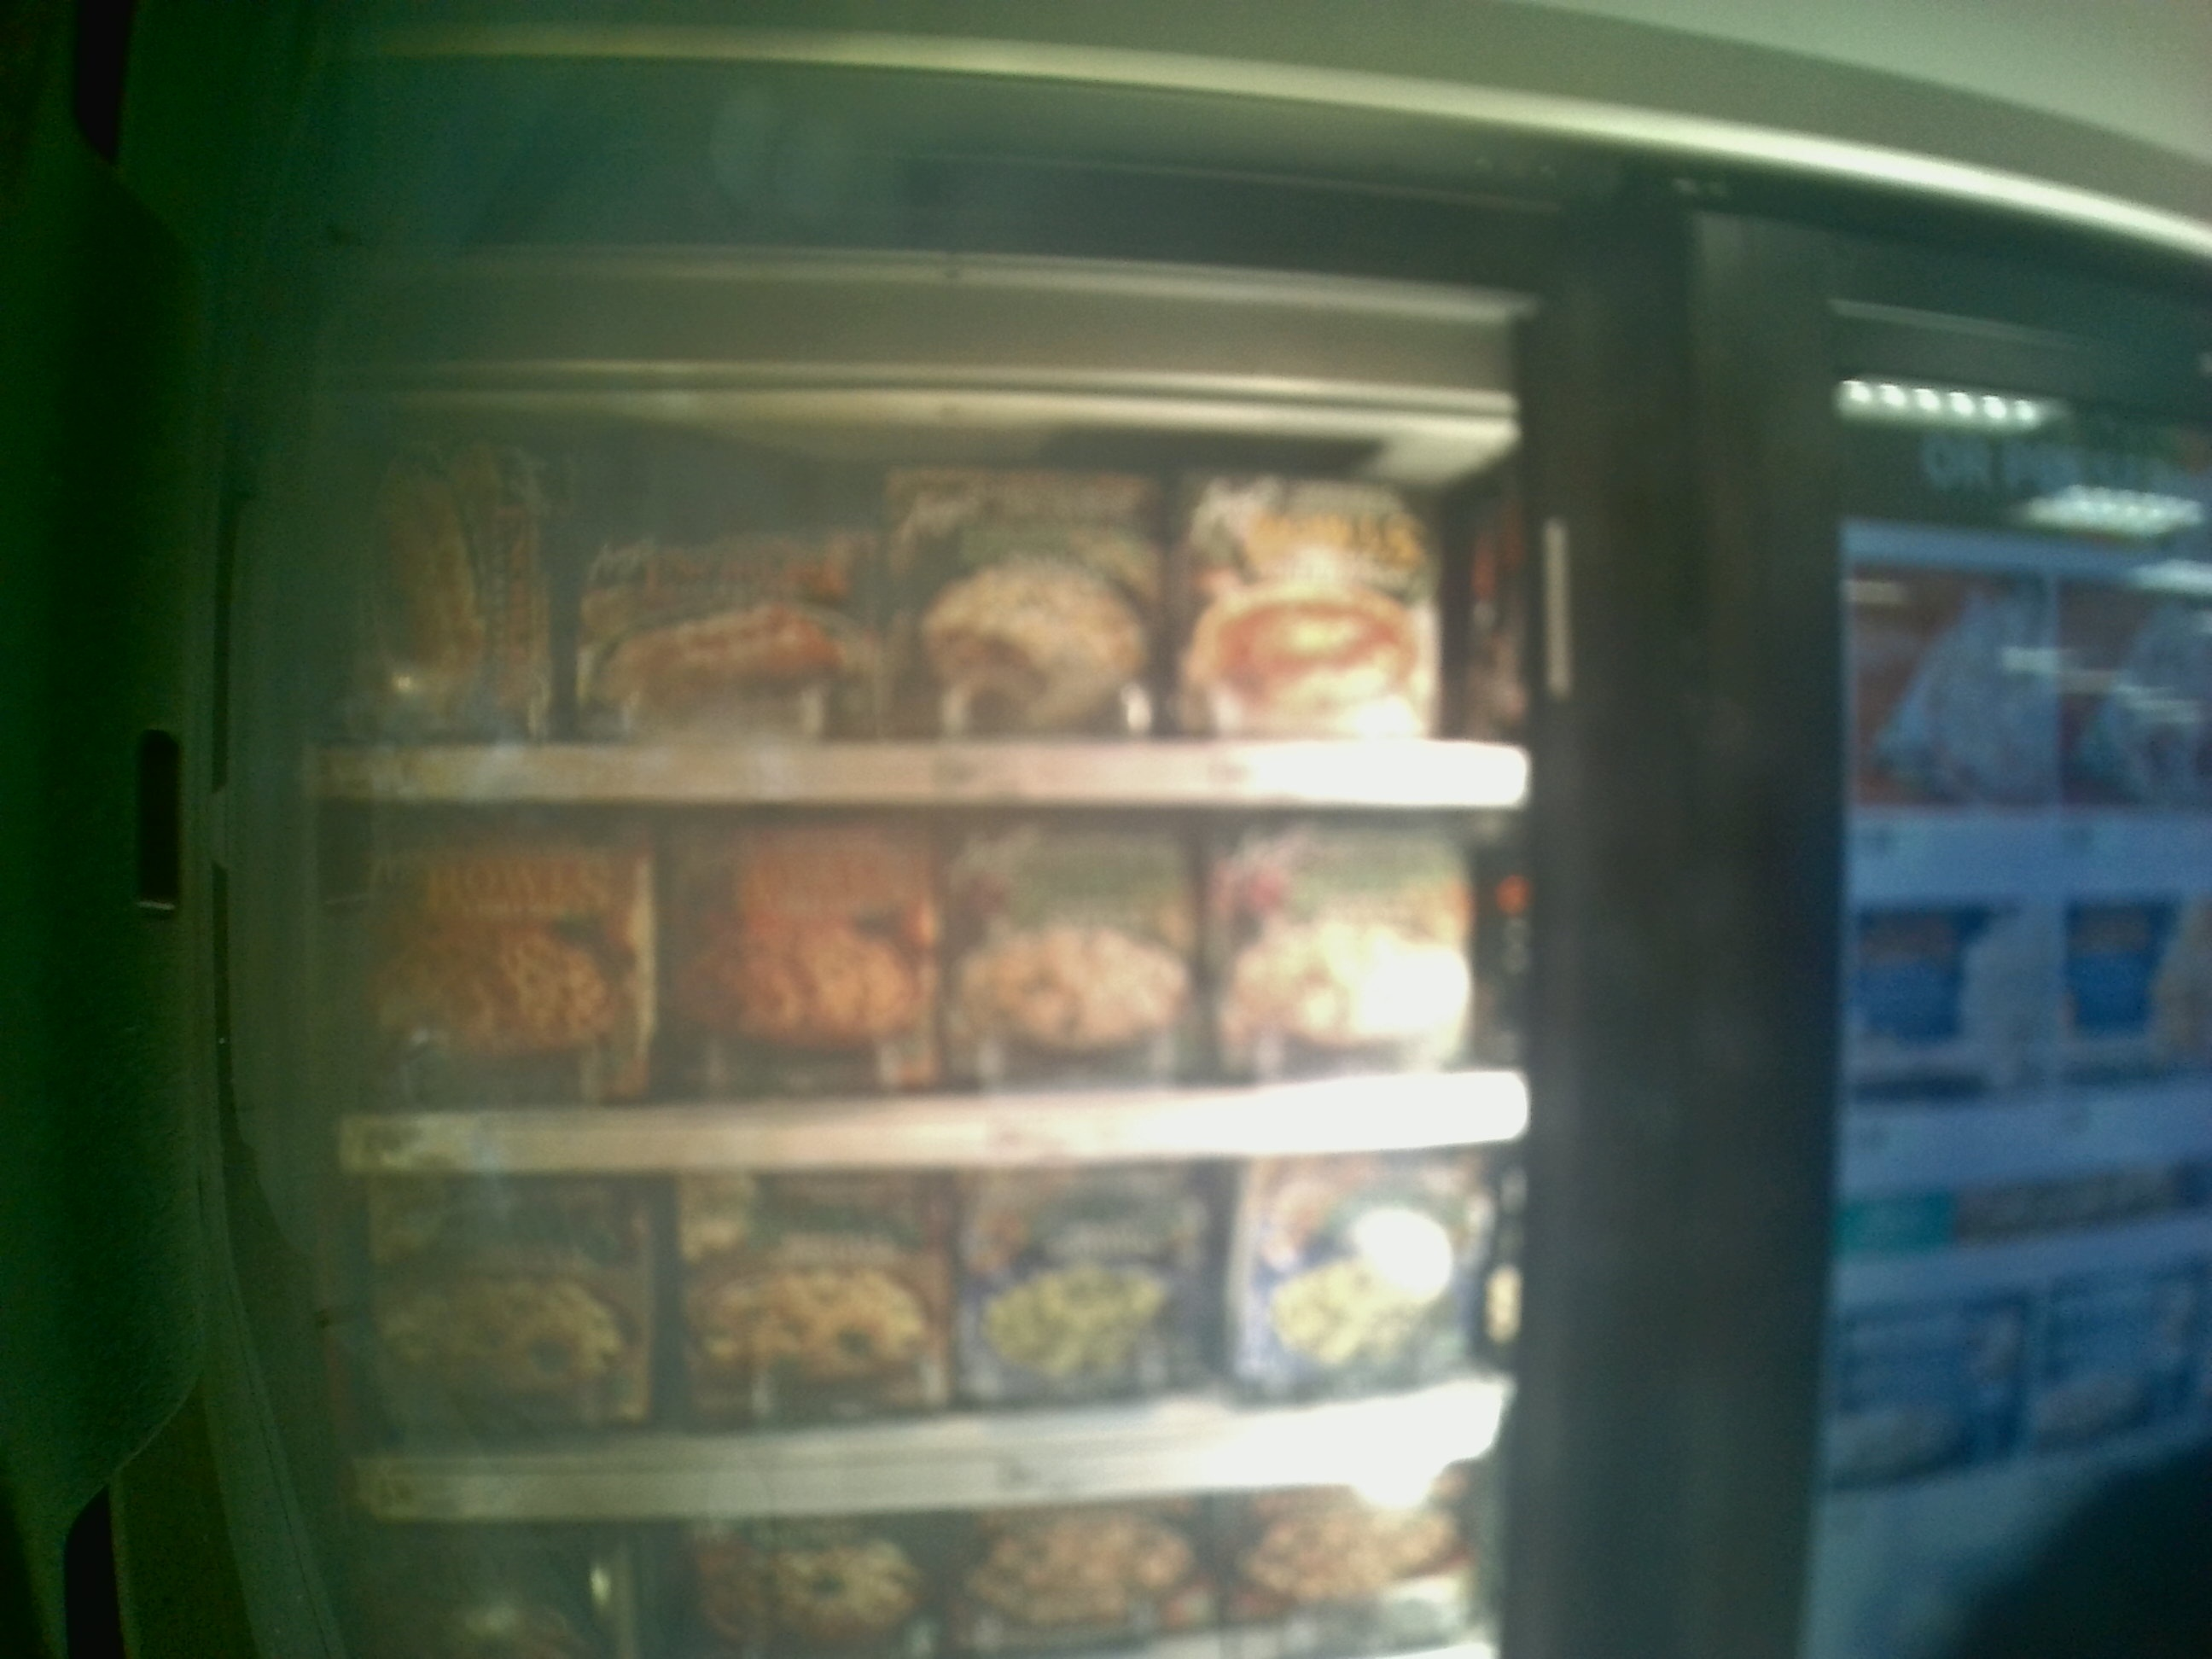frozen-food-shelf: (275, 410, 1529, 809), (275, 807, 1536, 1185), (268, 1188, 1536, 1527)
